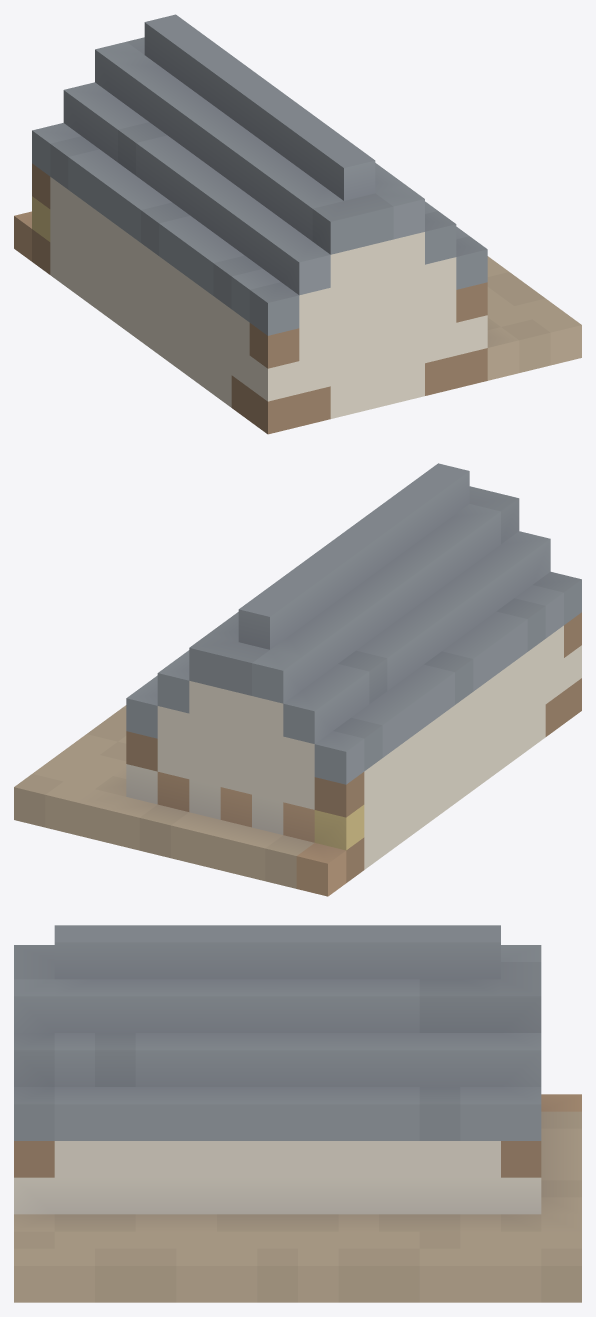
File: fashion_house.lite.glb
3 views of the same model, one above another, from view 1: azimuth 30°, elevation 25°; view 2: azimuth 150°, elevation 25°; view 3: azimuth 270°, elevation 25° (orthographic). The views are drawn at different scales.
Visible parts, largest first — view 1: fashion_house; view 2: fashion_house; view 3: fashion_house.
Boxes of the visible parts, x1,y1,x2,y2 form: fashion_house: (14, 14, 581, 434); fashion_house: (14, 463, 581, 896); fashion_house: (14, 925, 581, 1302).
Bounding box in the file's own units: 5 × 3.5 × 7.
